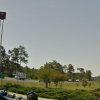Tree: (37, 51, 69, 86)
